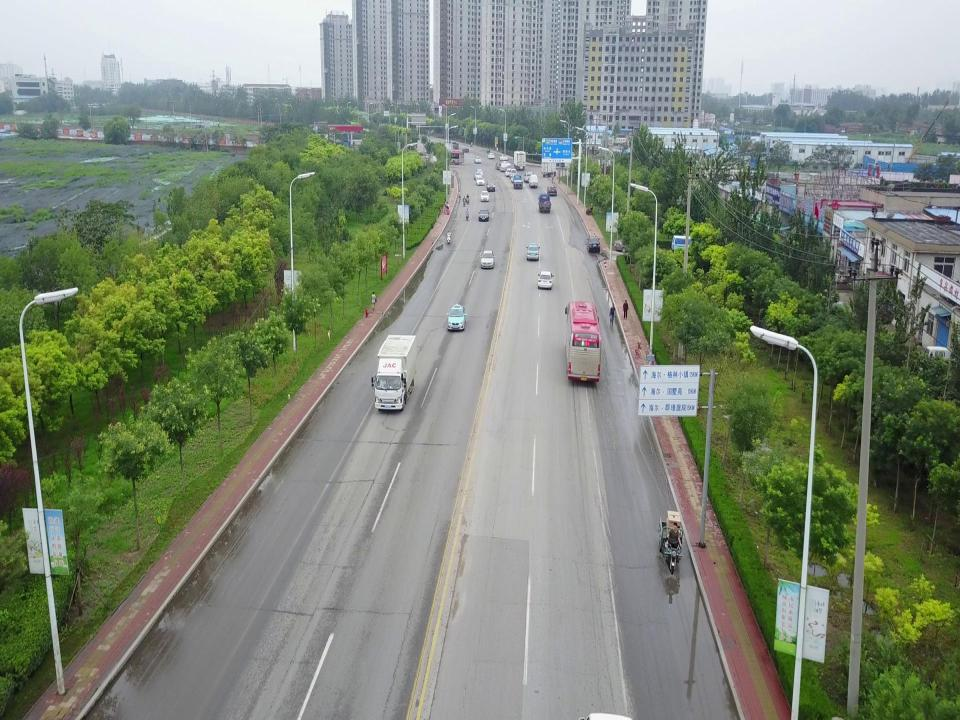bus: (564, 299, 601, 384)
car: (446, 302, 466, 332), (614, 237, 642, 252), (538, 270, 554, 290), (479, 250, 495, 269), (525, 242, 539, 261), (586, 235, 600, 252), (478, 209, 490, 221), (480, 190, 490, 202), (487, 179, 496, 192), (547, 185, 557, 196), (476, 176, 485, 186), (473, 155, 481, 164), (474, 172, 482, 180), (475, 168, 483, 176), (524, 173, 532, 181), (511, 174, 519, 182), (505, 168, 512, 177), (500, 162, 507, 171), (487, 152, 495, 159), (527, 171, 534, 179), (496, 161, 502, 170), (502, 161, 511, 167), (462, 146, 469, 153), (500, 154, 508, 160)
truck: (372, 330, 416, 413), (537, 194, 551, 214), (514, 151, 526, 171), (541, 162, 557, 177), (513, 175, 523, 188)
van: (672, 234, 697, 254), (528, 175, 538, 188), (510, 168, 517, 178), (453, 144, 459, 150)
